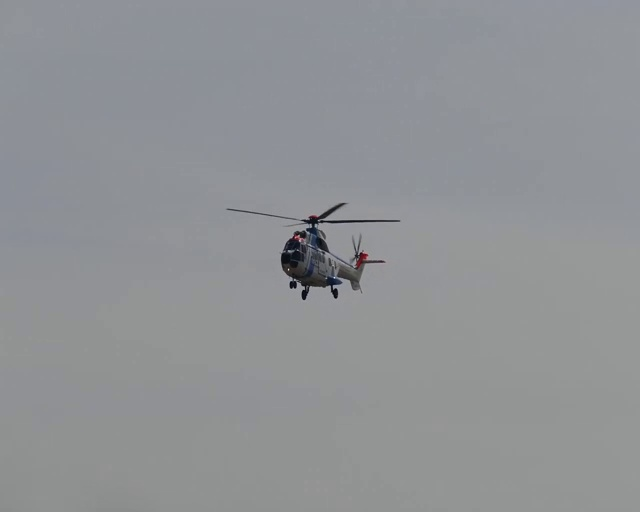HELICOPTER: (224, 200, 401, 300)
